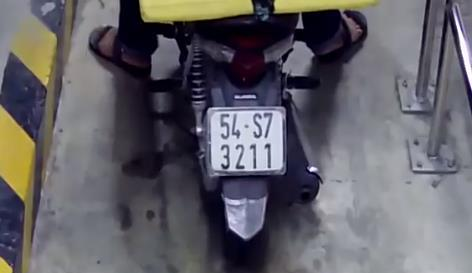lisence: (207, 105, 289, 175)
